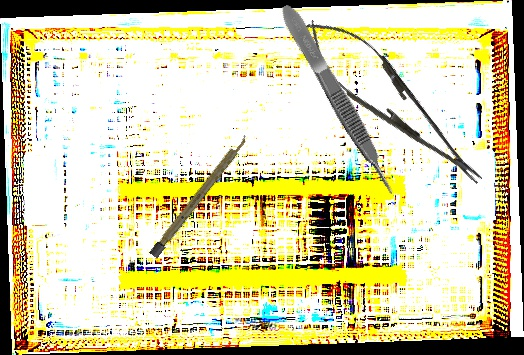Needle Holder: (290, 3, 498, 202)
Scalpel Handle: (149, 133, 250, 259)
Tissue Forceps: (276, 0, 400, 200)
